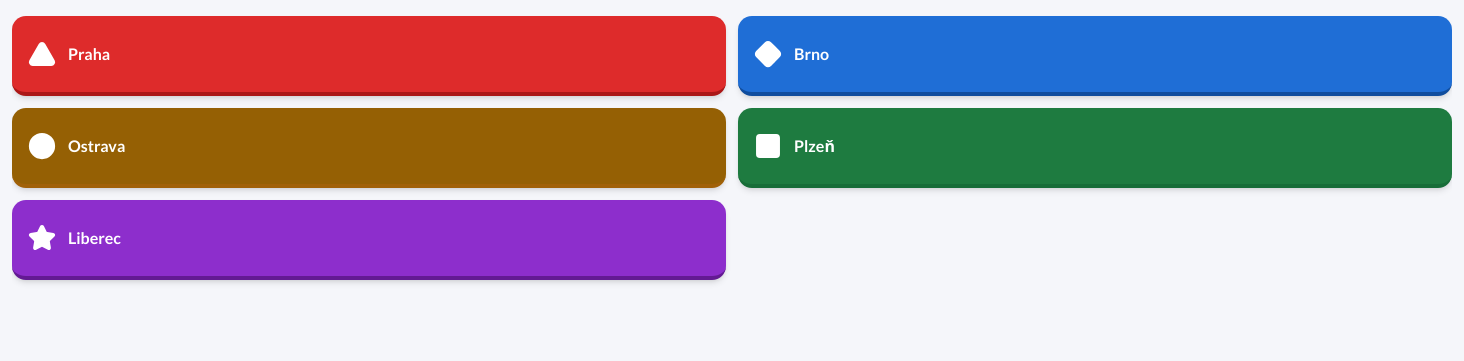
Test: živé MCQ se sdílenou obrazovkou › odesílá stejný index i s texty a pátou tvarovou volbou
Click the button with aria-label "Možnost".
click(94, 238)  # box [12,200,726,280]
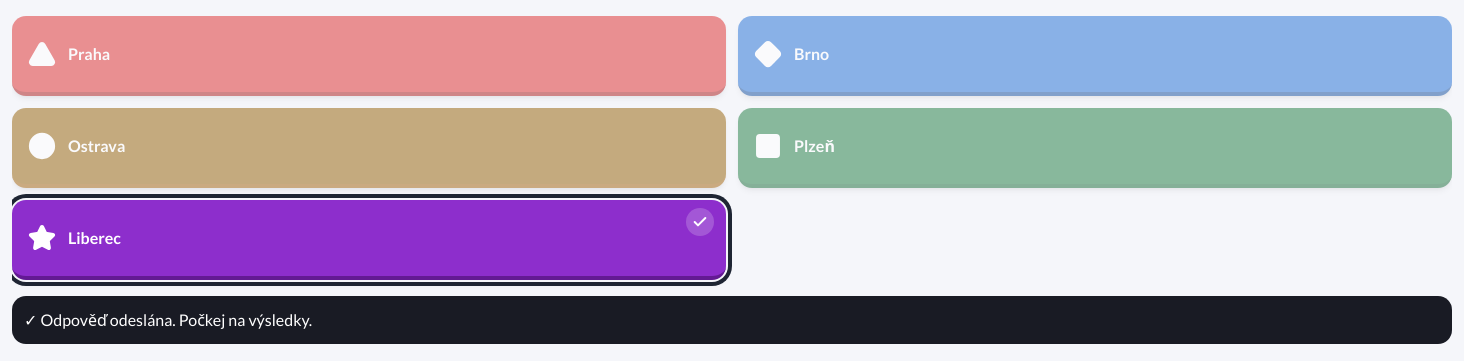
Check: the element named "Vybraná odpověď" is shown, box [686,208,714,236]
Check: the text "✓ Odpověď odeslána. Počkej na výsledky." is shown, box [12,296,1452,344]
